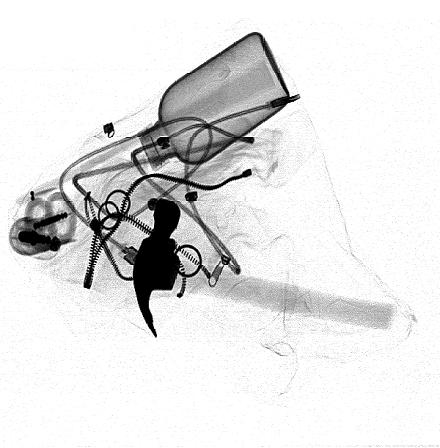Hammer: (133, 197, 397, 338)
